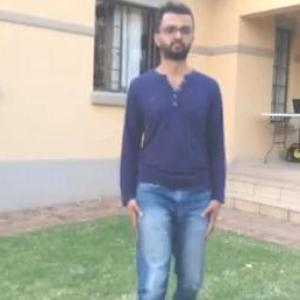follow: (122, 0, 226, 293)
